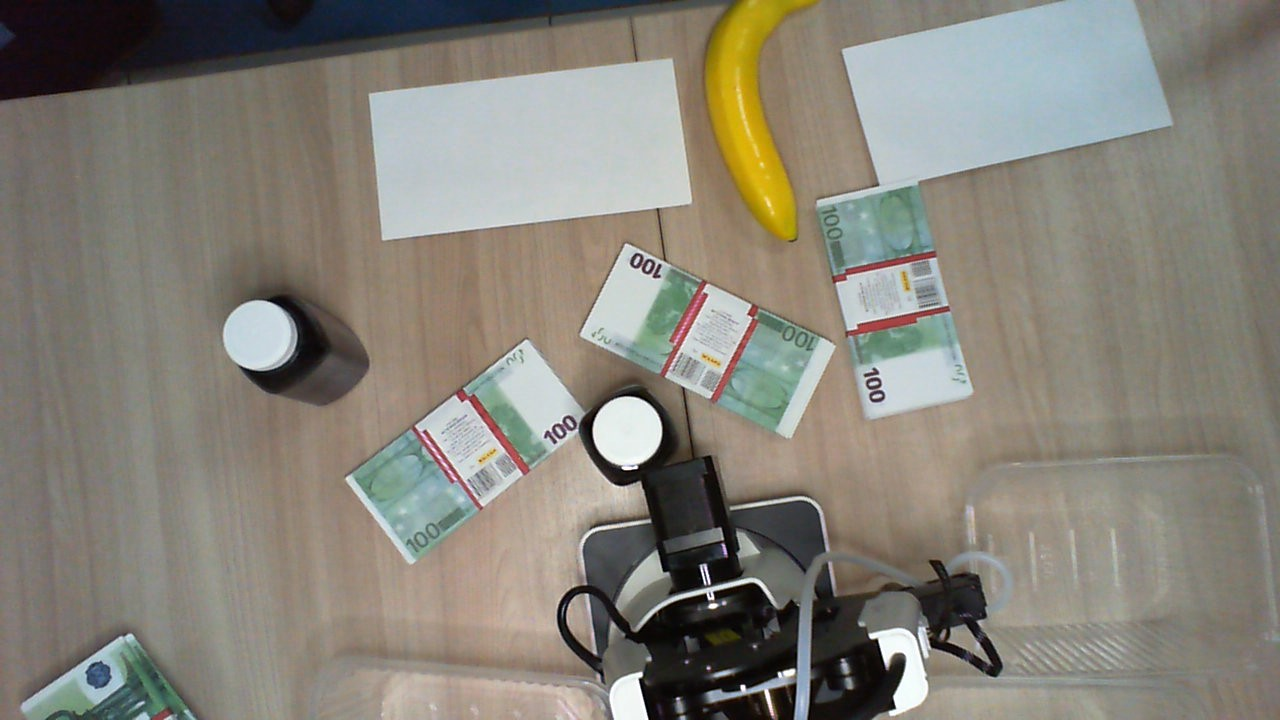banana: (705, 1, 828, 245)
bottle: (218, 294, 321, 398), (573, 383, 673, 486)
convert: (843, 1, 1177, 191), (368, 57, 697, 240)
money: (338, 342, 587, 564), (568, 240, 834, 435), (819, 180, 969, 415)
